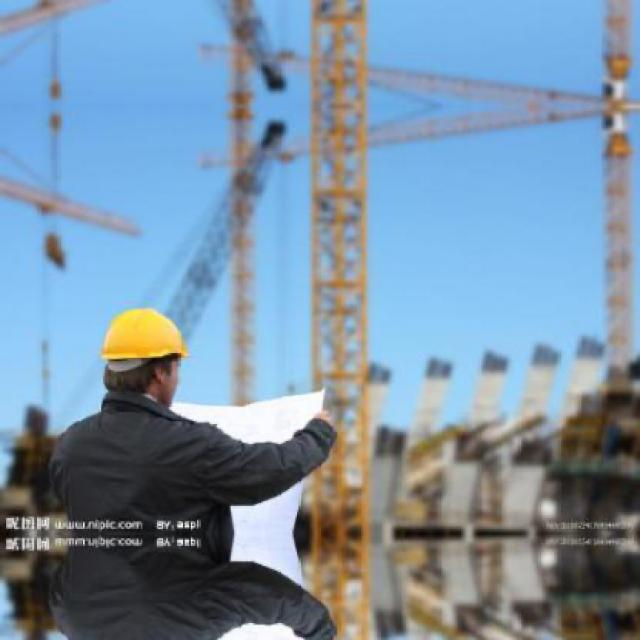helmet: (95, 296, 194, 412)
